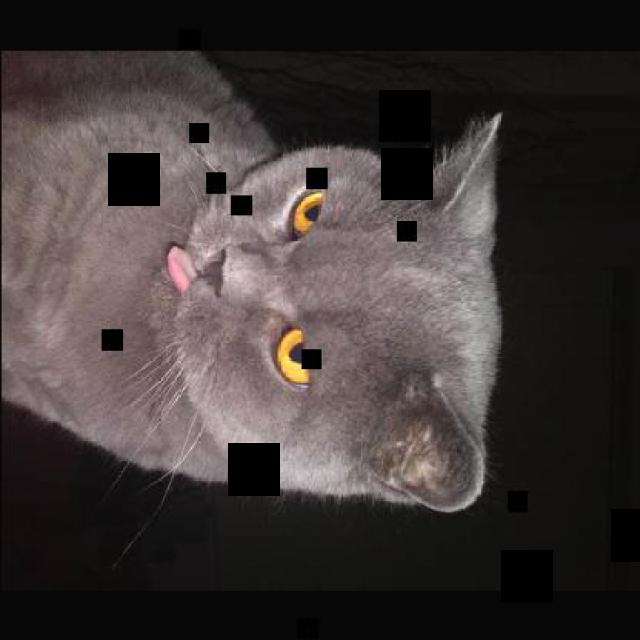unauthorized: (0, 49, 505, 562)
